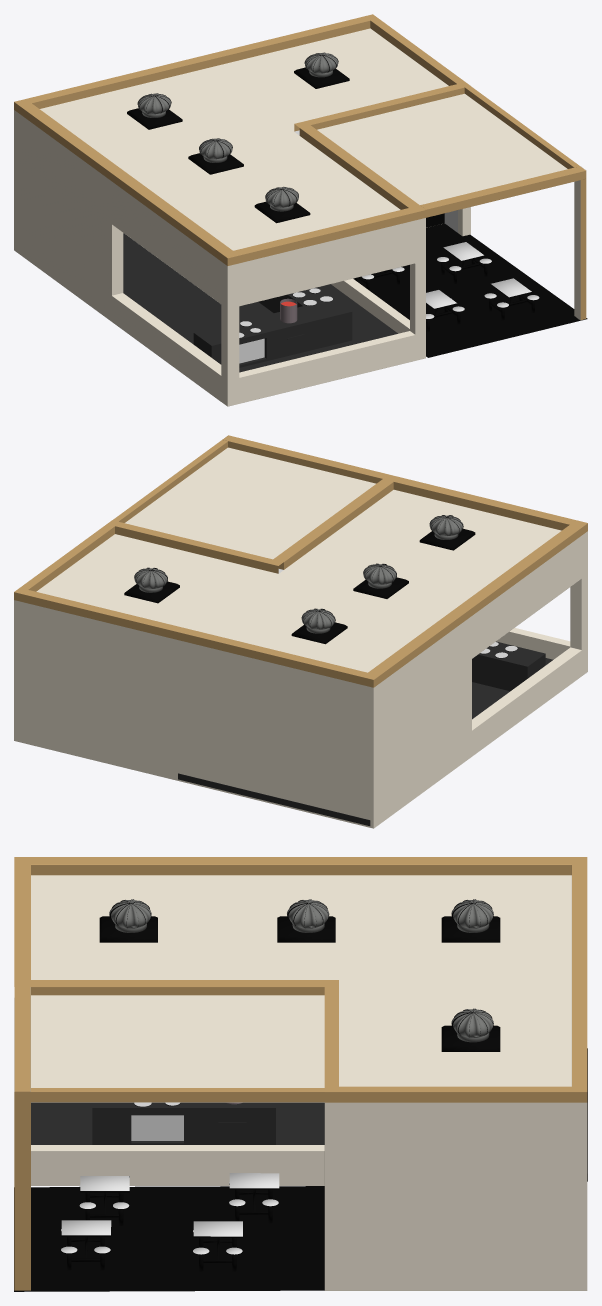
Rendered from Canteen.fbx.
The picture shows the model from 3 angles, top to bottom: view 1: azimuth 30°, elevation 25°; view 2: azimuth 150°, elevation 25°; view 3: azimuth 270°, elevation 25°; orthographic projection. The views are drawn at different scales.
Parts seen in each view (by area): view 1: canteen, Floor, Cook1, Air, Table1; view 2: canteen, Air, Cook1, Floor; view 3: canteen, Air, Cook1, Table1, Floor.
Boxes of the visible parts, x1,y1,x2,y2 form: canteen: (14, 14, 587, 406); Floor: (123, 233, 397, 372); Cook1: (193, 287, 352, 367); Air: (127, 52, 349, 223); Table1: (354, 242, 539, 331); canteen: (14, 435, 587, 828); Air: (124, 515, 475, 644); Cook1: (472, 641, 545, 691); Floor: (178, 658, 553, 825); canteen: (14, 857, 587, 1291); Air: (99, 899, 500, 1051); Cook1: (92, 1102, 275, 1144); Table1: (61, 1173, 279, 1271); Floor: (31, 1048, 587, 1181).
Size of the model in its own units: 1698 by 730 by 1748.
